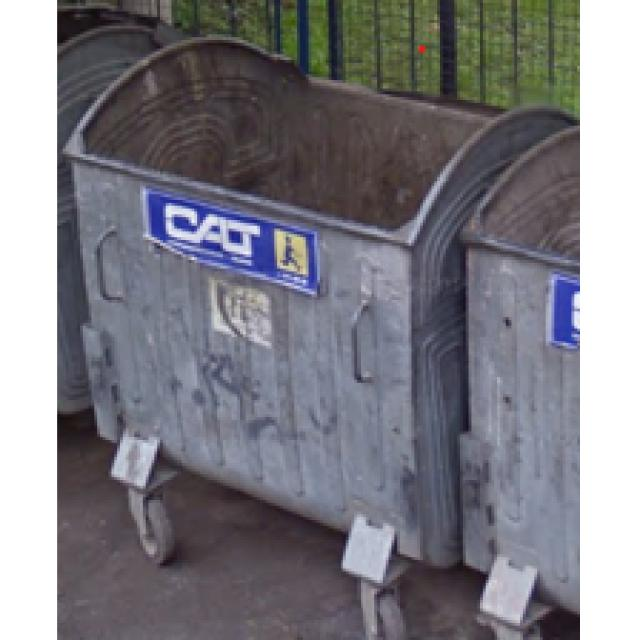general wastetrash bin: (60, 31, 451, 640)
